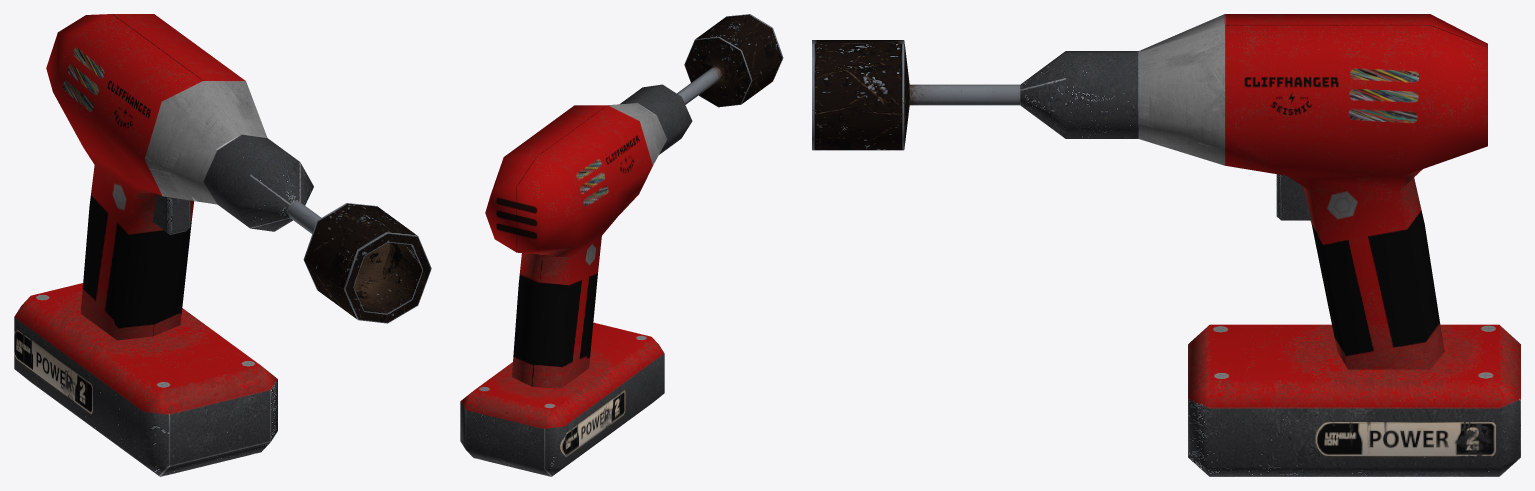
The model's file is Drill.glb.
3 renders of one model, left to right at view 1: azimuth 30°, elevation 25°; view 2: azimuth 150°, elevation 25°; view 3: azimuth 270°, elevation 25°, orthographic. The views are drawn at different scales.
Parts seen in each view (by area): view 1: drill_geo polySurface111 polySurface110, drill_geo polySurface109, polySurface113 polySurface108 drill_geo polySurface119 polyS, drill_geo polySurface110 polySurface112, polySurface113 polySurface108 drill_geo polySurface116 polyS, drill_geo polySurface107, polySurface115 polySurface113 polySurface108 drill_geo, polySurface108 drill_geo polySurface114; view 2: drill_geo polySurface111 polySurface110, drill_geo polySurface109, polySurface113 polySurface108 drill_geo polySurface119 polyS, polySurface113 polySurface108 drill_geo polySurface116 polyS, drill_geo polySurface110 polySurface112, polySurface108 drill_geo polySurface114; view 3: drill_geo polySurface111 polySurface110, drill_geo polySurface109, polySurface113 polySurface108 drill_geo polySurface119 polyS, drill_geo polySurface110 polySurface112, polySurface108 drill_geo polySurface114, drill_geo polySurface107.
Boxes of the visible parts, x1=… form: drill_geo polySurface111 polySurface110: x1=46, y1=14, x2=267, y2=340; drill_geo polySurface109: x1=14, y1=283, x2=277, y2=476; polySurface113 polySurface108 drill_geo polySurface119 polyS: x1=303, y1=203, x2=422, y2=319; drill_geo polySurface110 polySurface112: x1=203, y1=134, x2=313, y2=231; polySurface113 polySurface108 drill_geo polySurface116 polyS: x1=344, y1=233, x2=431, y2=323; drill_geo polySurface107: x1=152, y1=194, x2=190, y2=234; polySurface115 polySurface113 polySurface108 drill_geo: x1=354, y1=242, x2=390, y2=290; polySurface108 drill_geo polySurface114: x1=287, y1=201, x2=321, y2=233; drill_geo polySurface111 polySurface110: x1=485, y1=103, x2=666, y2=388; drill_geo polySurface109: x1=460, y1=322, x2=664, y2=476; polySurface113 polySurface108 drill_geo polySurface119 polyS: x1=695, y1=14, x2=783, y2=104; polySurface113 polySurface108 drill_geo polySurface116 polyS: x1=684, y1=37, x2=751, y2=107; drill_geo polySurface110 polySurface112: x1=620, y1=84, x2=692, y2=154; polySurface108 drill_geo polySurface114: x1=677, y1=67, x2=721, y2=104; drill_geo polySurface111 polySurface110: x1=1139, y1=14, x2=1487, y2=369; drill_geo polySurface109: x1=1188, y1=324, x2=1520, y2=476; polySurface113 polySurface108 drill_geo polySurface119 polyS: x1=812, y1=40, x2=904, y2=150; drill_geo polySurface110 polySurface112: x1=1020, y1=51, x2=1138, y2=138; polySurface108 drill_geo polySurface114: x1=909, y1=84, x2=1019, y2=105; drill_geo polySurface107: x1=1276, y1=174, x2=1311, y2=220.
Bounding box in the file's own units: 10.23 × 27.56 × 41.74.
1 material, 1 textured.
